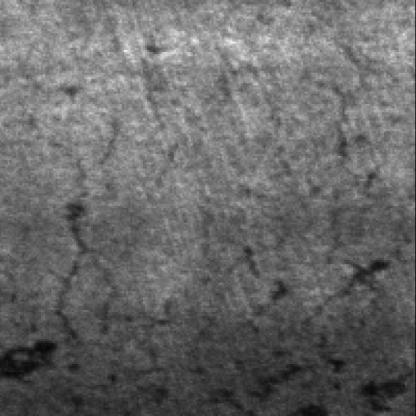crazing: (268, 46, 374, 322), (62, 148, 181, 358)
